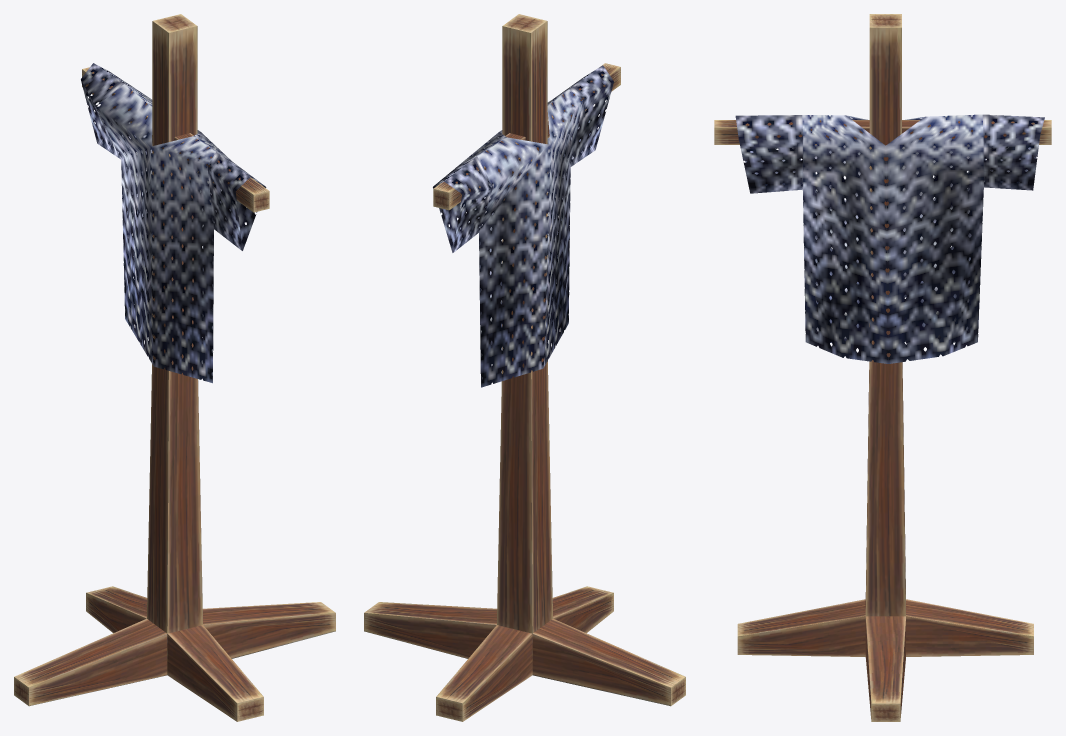
The model's file is armorstandmailblue.obj.
3 renders of one model, left to right at view 1: azimuth 30°, elevation 25°; view 2: azimuth 150°, elevation 25°; view 3: azimuth 270°, elevation 25°, orthographic.
Parts seen in each view (by area): view 1: armorstandmailblue; view 2: armorstandmailblue; view 3: armorstandmailblue.
Part boxes in pixels (x1,y1,x2,y2): armorstandmailblue: (14,14,335,721); armorstandmailblue: (364,14,685,721); armorstandmailblue: (714,14,1051,721).
Size of the model in its own units: 0.8958 by 1.79 by 0.8686.
1 material, 1 textured.
